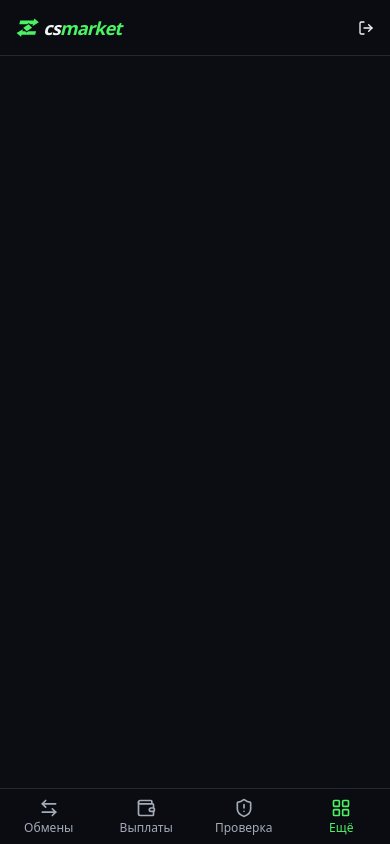
Test: Layout › «Ещё» closes on Esc
Click the button "Ещё": (341, 816) [292,789,389,843]
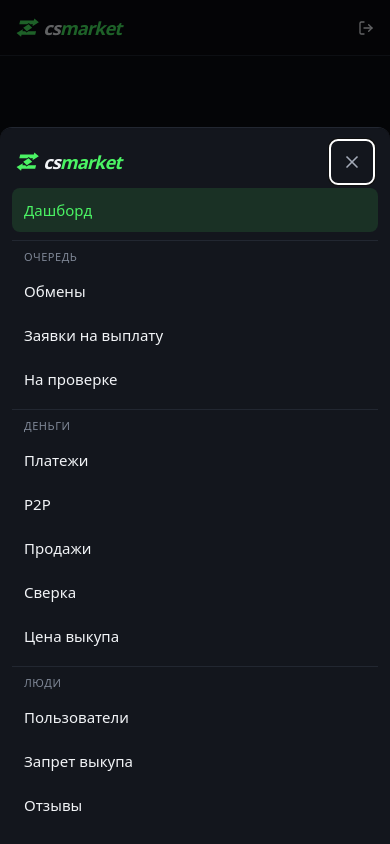
Press Escape in the dialog named "Меню"
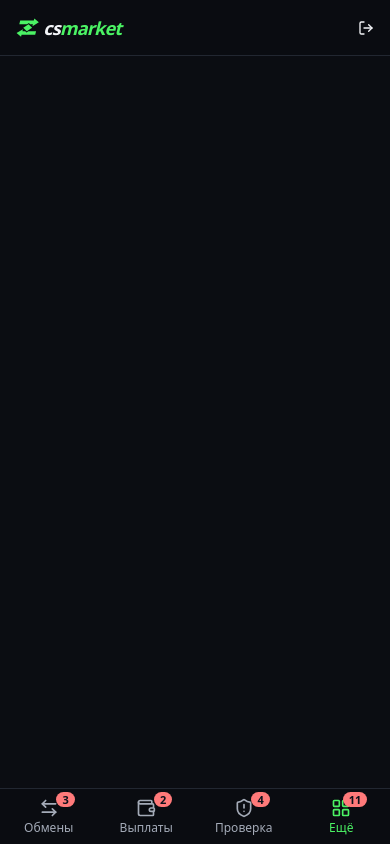
Expected: the button "Меню" is gone
